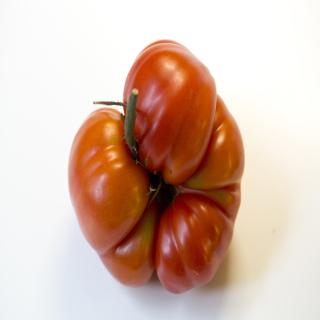tomato: (66, 38, 245, 298)
